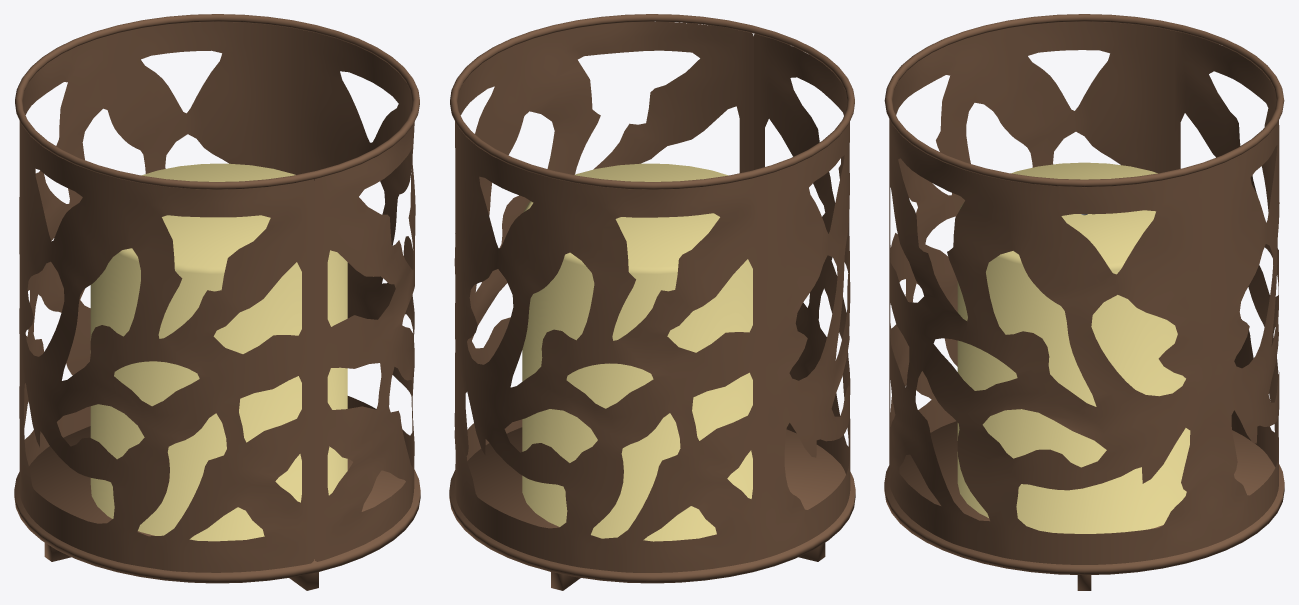
The model's file is complements2.glb.
The picture shows the model from 3 angles, left to right: view 1: azimuth 30°, elevation 25°; view 2: azimuth 150°, elevation 25°; view 3: azimuth 270°, elevation 25°; orthographic projection.
Parts seen in each view (by area): view 1: shape_Plane, candle1_Tube, base_Mesh, CurveCircle_Mesh.002, cross_Cube; view 2: shape_Plane, candle1_Tube, base_Mesh, CurveCircle_Mesh.002, cross_Cube; view 3: shape_Plane, candle1_Tube, base_Mesh, CurveCircle_Mesh.002.
Boxes of the visible parts, box(x1,y1,x2,y2) form: shape_Plane: box(19, 21, 415, 572); candle1_Tube: box(90, 163, 347, 541); base_Mesh: box(14, 426, 420, 583); CurveCircle_Mesh.002: box(15, 14, 419, 189); cross_Cube: box(44, 543, 318, 590); shape_Plane: box(454, 21, 850, 572); candle1_Tube: box(522, 163, 752, 541); base_Mesh: box(449, 427, 855, 583); CurveCircle_Mesh.002: box(450, 14, 854, 189); cross_Cube: box(551, 543, 825, 590); shape_Plane: box(889, 21, 1279, 564); candle1_Tube: box(957, 162, 1190, 533); base_Mesh: box(884, 421, 1284, 575); CurveCircle_Mesh.002: box(884, 14, 1284, 187).
Bounding box in the file's own units: 1.14 × 1.3 × 1.14.
